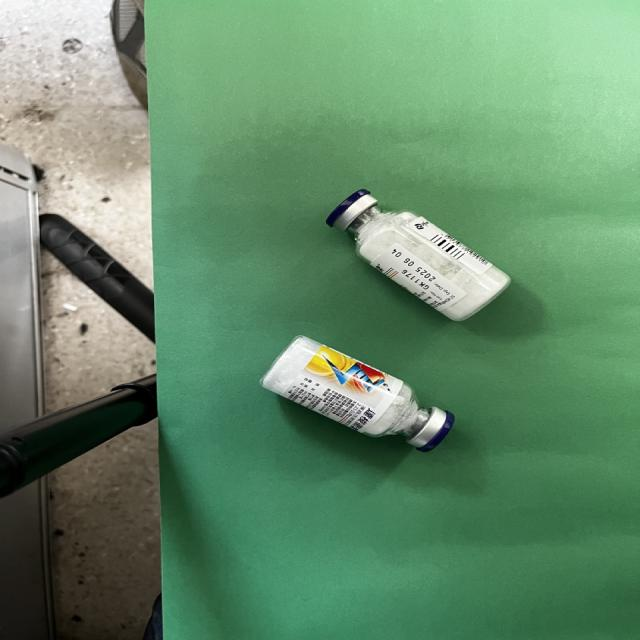Vials: (327, 190, 511, 322), (260, 336, 455, 454)
